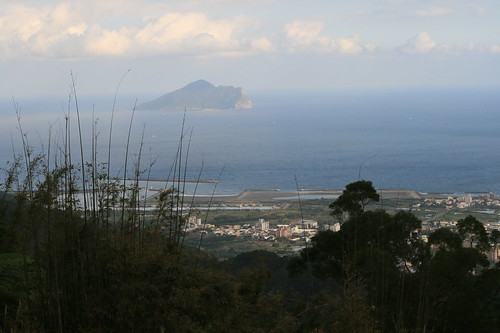turtleIsland: (131, 81, 253, 110)
